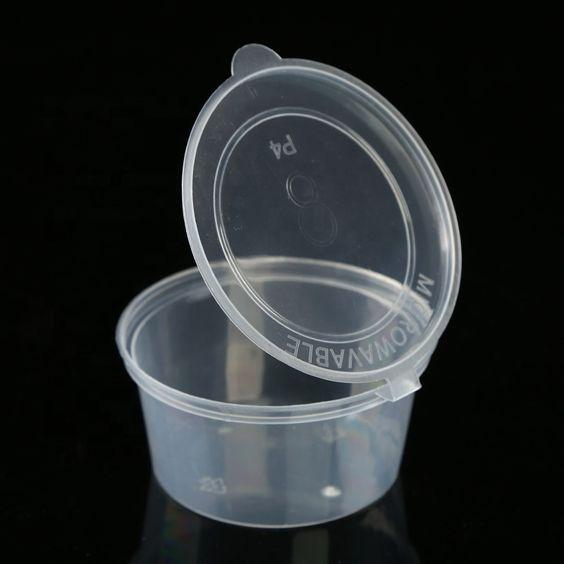PS: (117, 39, 462, 528)
